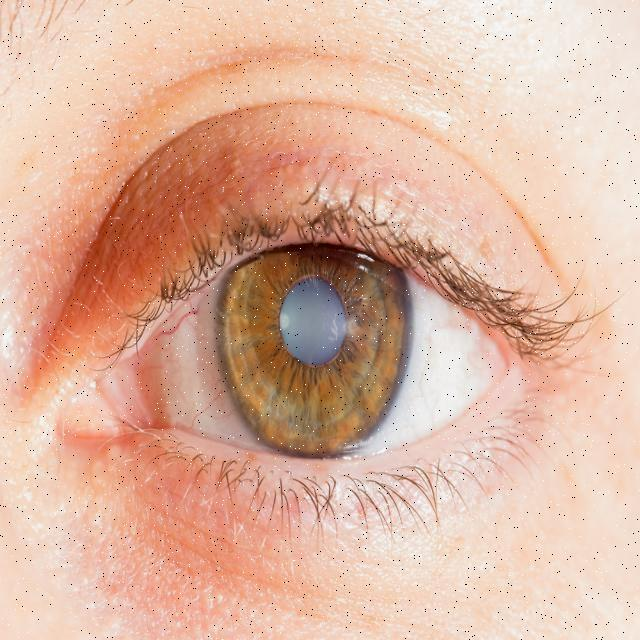Cataract: (199, 219, 434, 461)
